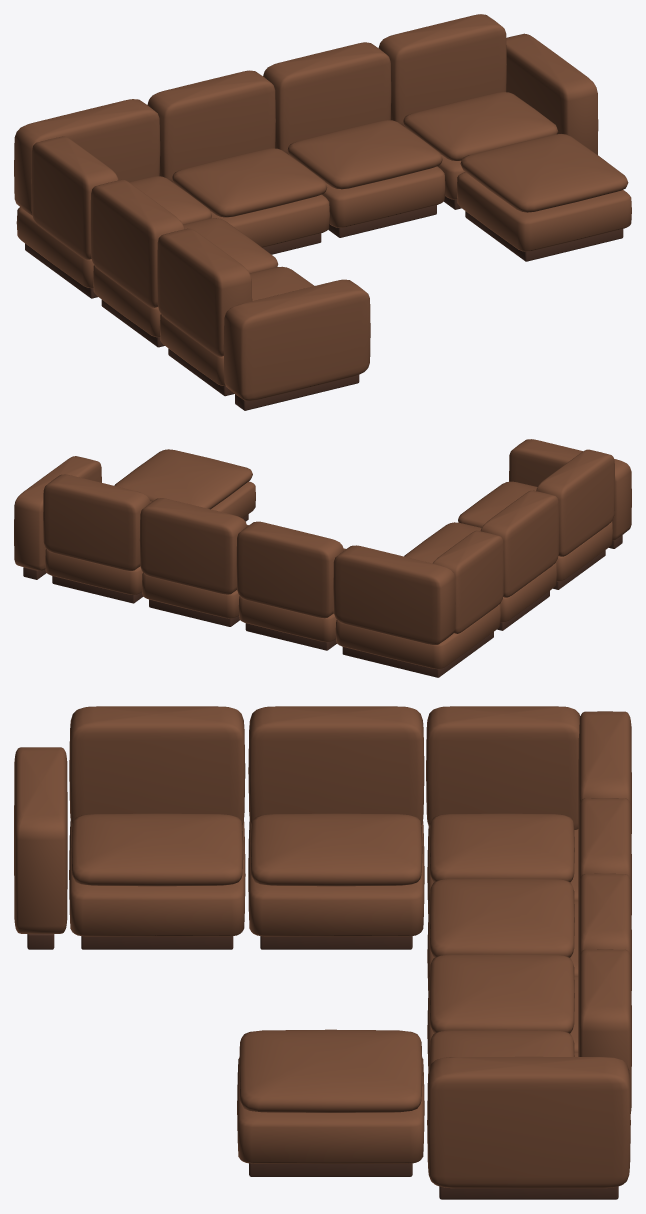
The model's file is sofa_u_modular_marrom.glb.
3 views of the same model, one above another, from view 1: azimuth 30°, elevation 25°; view 2: azimuth 150°, elevation 25°; view 3: azimuth 270°, elevation 25° (orthographic). The views are drawn at different scales.
Visible parts, largest first — view 1: sofa_u_modular_marrom; view 2: sofa_u_modular_marrom; view 3: sofa_u_modular_marrom.
Part boxes in pixels (left/top/right/bottom): sofa_u_modular_marrom: left=14, top=14, right=631, bottom=410; sofa_u_modular_marrom: left=14, top=439, right=631, bottom=677; sofa_u_modular_marrom: left=14, top=706, right=631, bottom=1199.
Bounding box in the file's own units: 3.56 × 0.82 × 2.76.
Materials: 1 (1 with a texture image).
